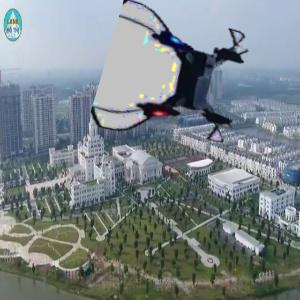drone: (105, 6, 250, 151)
